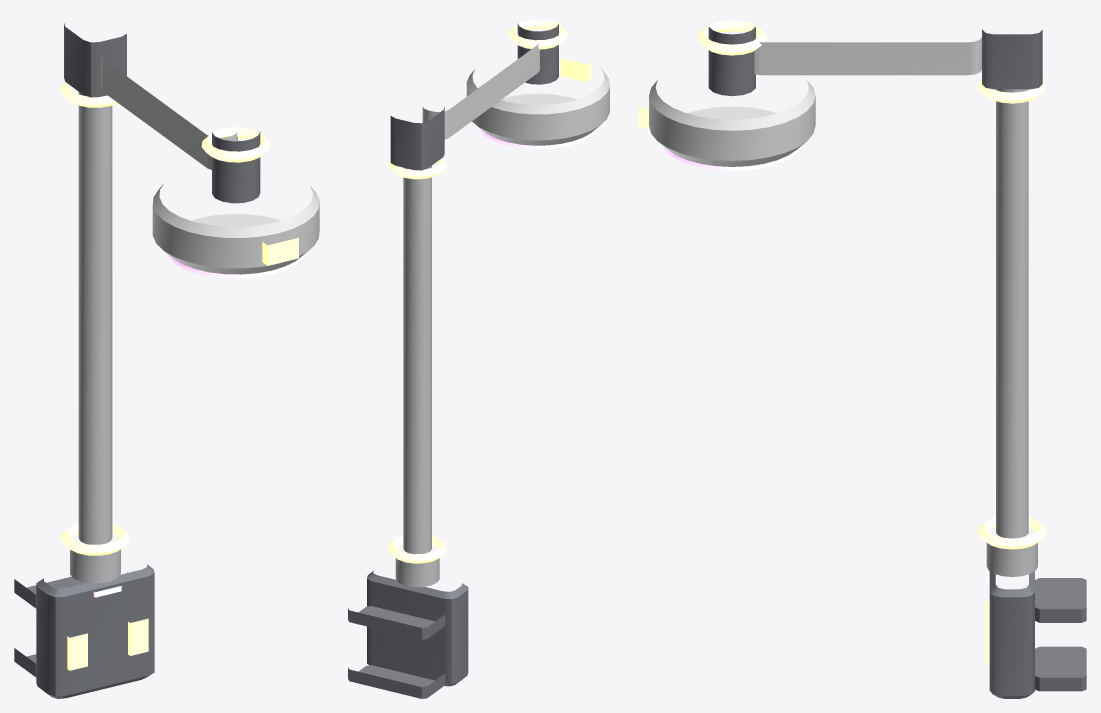
Rendered from task_lamp_rail_slider.glb.
3 renders of one model, left to right at view 1: azimuth 30°, elevation 25°; view 2: azimuth 150°, elevation 25°; view 3: azimuth 270°, elevation 25°, orthographic. The views are drawn at different scales.
Visible parts, largest first — view 1: Mast, Slider_Body, Head_Shell, Boom, Boom_Knuckle, Head_Knuckle, Joint_Latches, Mast_Socket, Slider_Latch, Head_Latch, Slider_Hooks, Service_Lug (+1 smaller); view 2: Mast, Slider_Body, Head_Shell, Slider_Hooks, Boom, Boom_Knuckle, Joint_Latches, Head_Knuckle, Mast_Socket, Head_Latch, Service_Lug, Head_Lens; view 3: Mast, Head_Shell, Boom, Slider_Body, Slider_Hooks, Boom_Knuckle, Head_Knuckle, Joint_Latches, Mast_Socket, Head_Latch.
Boxes of the visible parts, x1,y1,x2,y2 form: Mast: (78, 92, 112, 544); Slider_Body: (36, 564, 154, 698); Head_Shell: (152, 184, 319, 274); Boom: (101, 56, 237, 169); Boom_Knuckle: (64, 23, 126, 97); Head_Knuckle: (212, 131, 260, 203); Joint_Latches: (61, 82, 129, 555); Mast_Socket: (70, 549, 120, 583); Slider_Latch: (67, 618, 148, 670); Head_Latch: (201, 127, 270, 162); Slider_Hooks: (14, 572, 127, 676); Service_Lug: (262, 237, 298, 265); Mast: (403, 166, 431, 554); Slider_Body: (367, 571, 468, 686); Head_Shell: (466, 67, 609, 145); Slider_Hooks: (348, 606, 445, 698); Boom: (422, 44, 539, 139); Boom_Knuckle: (390, 107, 444, 170); Joint_Latches: (388, 157, 447, 563); Head_Knuckle: (517, 23, 558, 84); Mast_Socket: (395, 558, 439, 587); Head_Latch: (508, 19, 567, 49); Service_Lug: (560, 58, 592, 82); Head_Lens: (478, 127, 598, 148); Mast: (996, 89, 1028, 538); Head_Shell: (649, 79, 815, 166); Boom: (752, 37, 981, 75); Slider_Body: (989, 571, 1034, 698); Slider_Hooks: (1035, 578, 1086, 691); Boom_Knuckle: (982, 29, 1042, 89); Head_Knuckle: (708, 27, 755, 96); Joint_Latches: (977, 79, 1046, 549); Mast_Socket: (986, 543, 1037, 576); Head_Latch: (697, 20, 766, 55).
Bounding box in the file's own units: 0.11 × 0.475 × 0.296.
